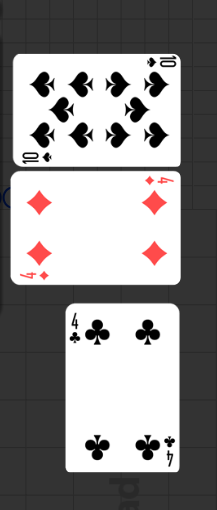10S: (144, 55, 177, 69)
4C: (162, 433, 176, 468)
4D: (19, 269, 51, 282)
